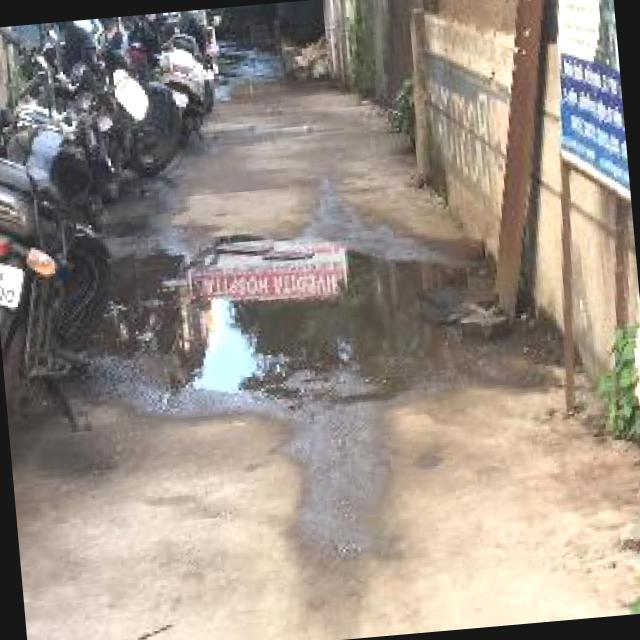stagnation: (80, 196, 448, 426)
